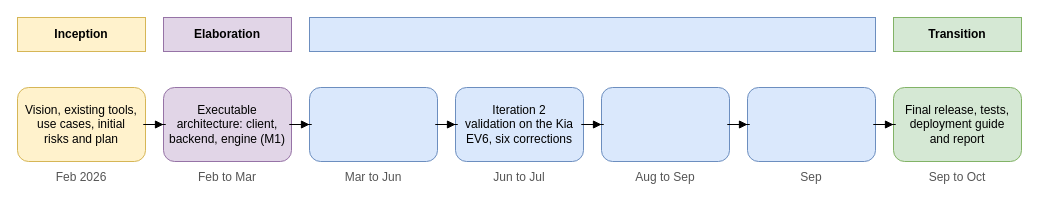
This 1039x206 diagram has some shape labels left out. Here are the shapes that lost their labels. From the top down, the box of each, then its label:
(308, 16, 876, 52): Construction
(308, 86, 438, 162): Iteration 1 first detection pipeline and client (M3 to M8)
(600, 86, 730, 162): Iteration 3 hardware layer and bench rig (M2)
(746, 86, 876, 162): Iteration 4 model rebuild and holdout evaluation
